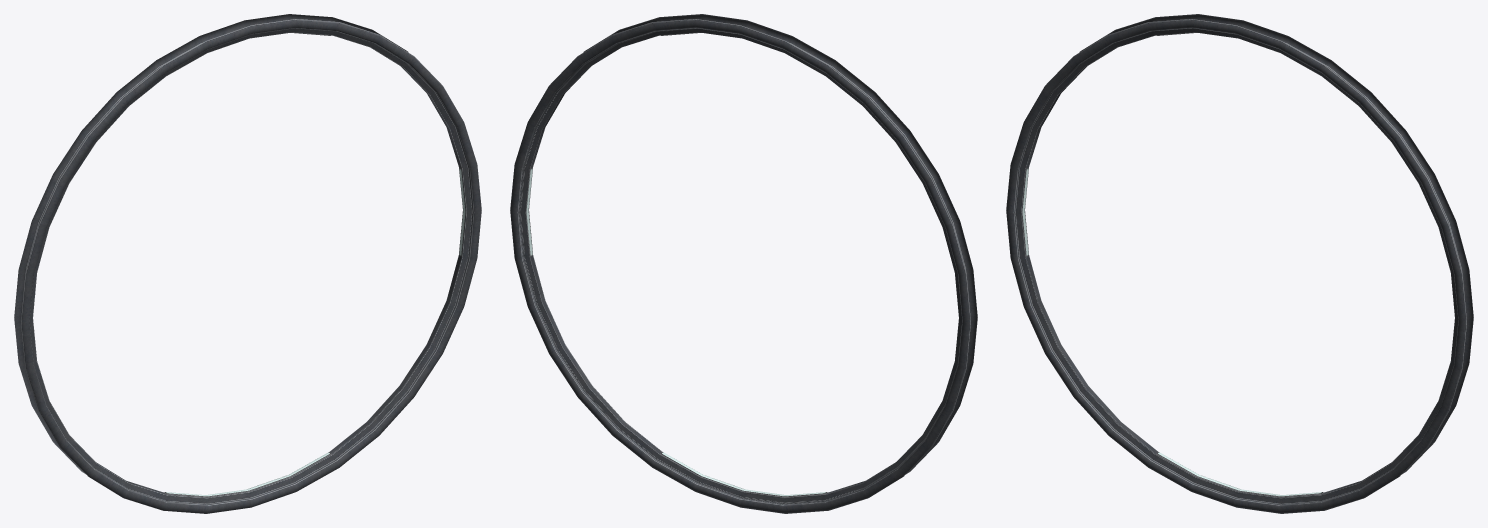
File: hc_halo_ring.obj
3 renders of one model, left to right at view 1: azimuth 30°, elevation 25°; view 2: azimuth 150°, elevation 25°; view 3: azimuth 330°, elevation 25°, orthographic.
Visible parts, largest first — view 1: newring_tria; view 2: newring_tria; view 3: newring_tria.
Boxes of the visible parts, x1,y1,x2,y2 form: newring_tria: [14, 14, 481, 513]; newring_tria: [510, 14, 977, 513]; newring_tria: [1006, 14, 1473, 513].
Size of the model in its own units: 59531 by 59531 by 2074.
